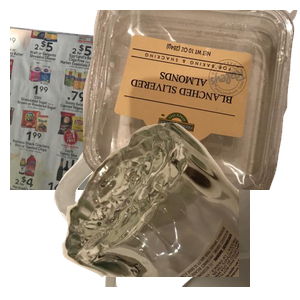glass: (60, 120, 300, 300)
paper: (10, 21, 222, 201)
plastic: (83, 10, 300, 190)
trash: (51, 120, 291, 300)
